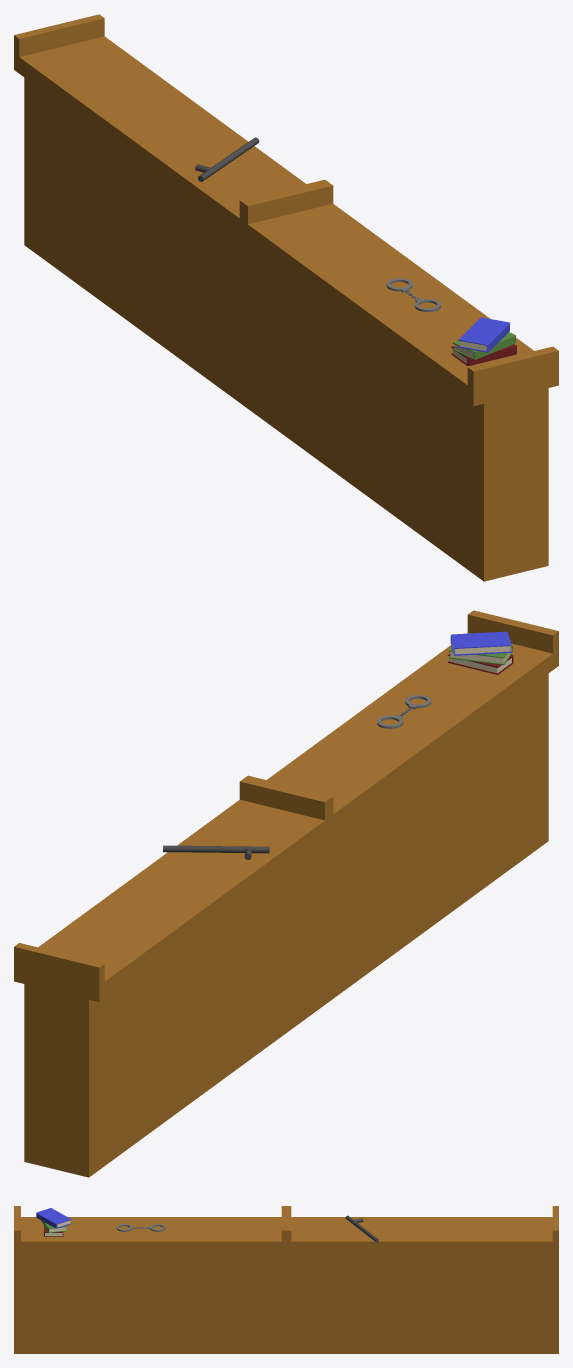
File: PoliceShelf.fbx
The picture shows the model from 3 angles, top to bottom: view 1: azimuth 30°, elevation 25°; view 2: azimuth 150°, elevation 25°; view 3: azimuth 270°, elevation 25°; orthographic projection. The views are drawn at different scales.
Parts seen in each view (by area): view 1: Shelf, Book_3; view 2: Shelf, Book_3, Weapon; view 3: Shelf, Book_3, Handcuffs, Weapon.
Part boxes in pixels (x1,y1,x2,y2): Shelf: [14, 14, 558, 581]; Book_3: [458, 317, 509, 352]; Shelf: [14, 610, 558, 1177]; Book_3: [450, 631, 511, 655]; Weapon: [163, 845, 269, 859]; Shelf: [14, 1206, 558, 1353]; Book_3: [36, 1208, 71, 1228]; Handcuffs: [116, 1224, 165, 1231]; Weapon: [345, 1215, 378, 1242].
Size of the model in its own units: 107 by 245 by 937.
